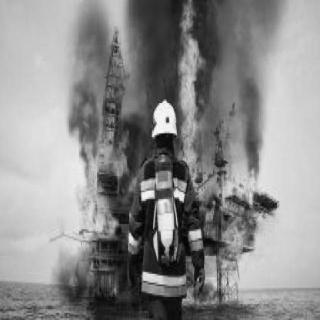Fire: (75, 12, 267, 308)
